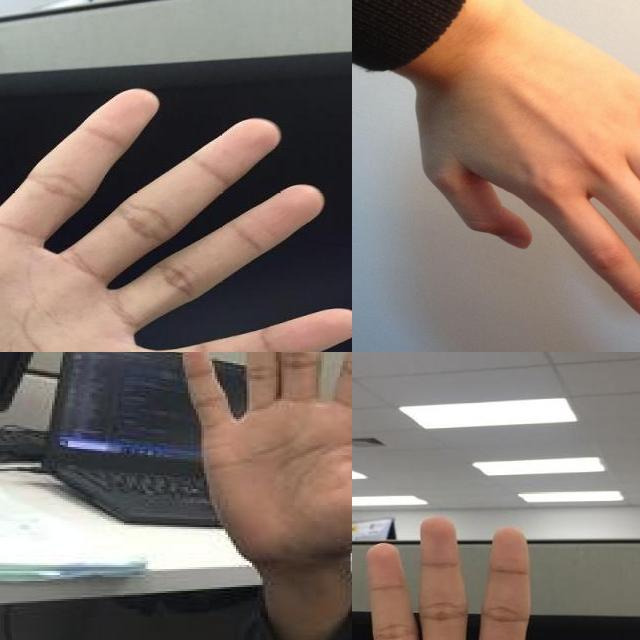hand: (0, 87, 352, 352), (409, 0, 640, 325), (177, 352, 352, 561), (352, 516, 640, 640)
